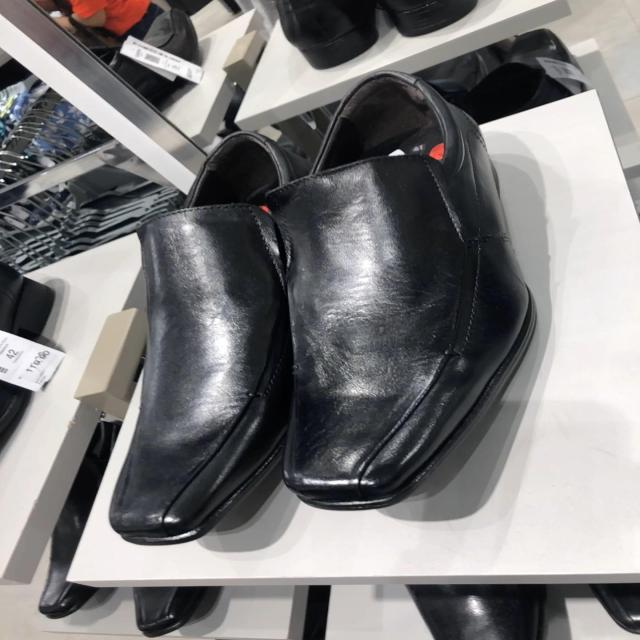shoe: (267, 76, 523, 514), (108, 132, 280, 548)
